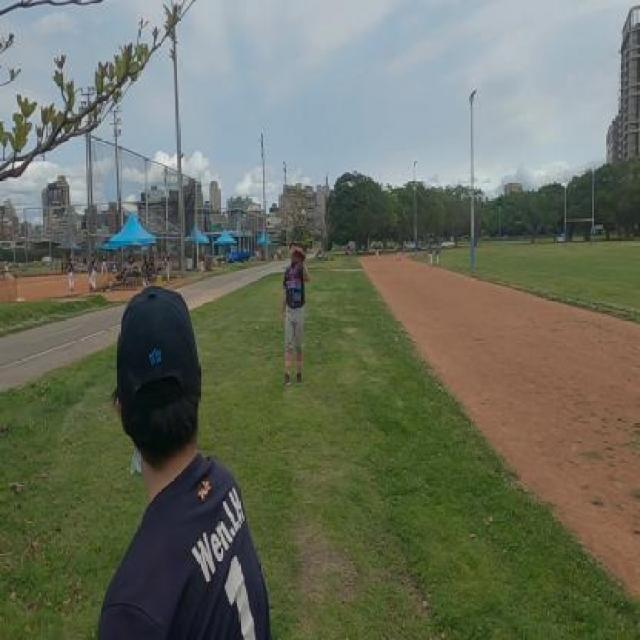baseball: (300, 208, 306, 218)
